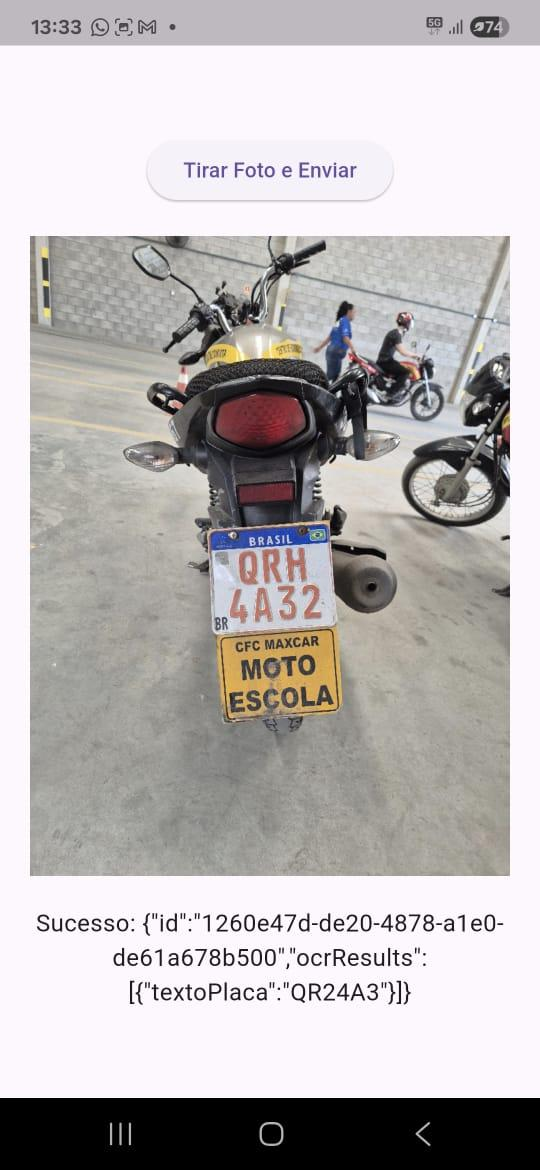placa_mercosul: (208, 522, 337, 635)
